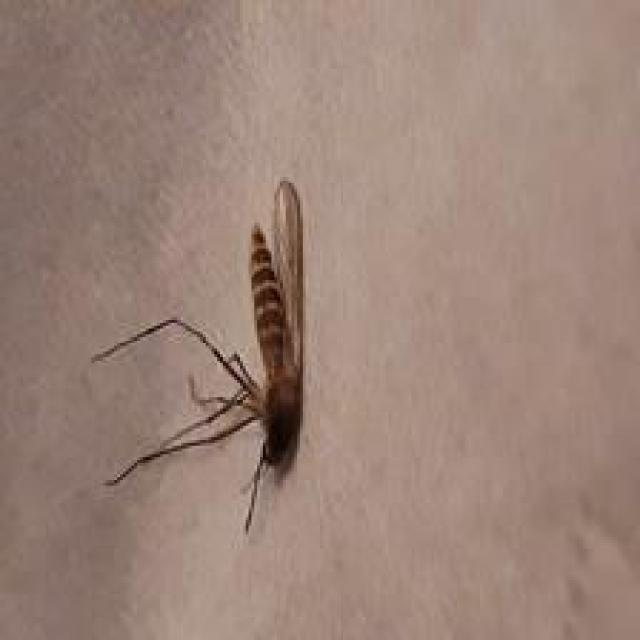Culex: (90, 177, 307, 534)
